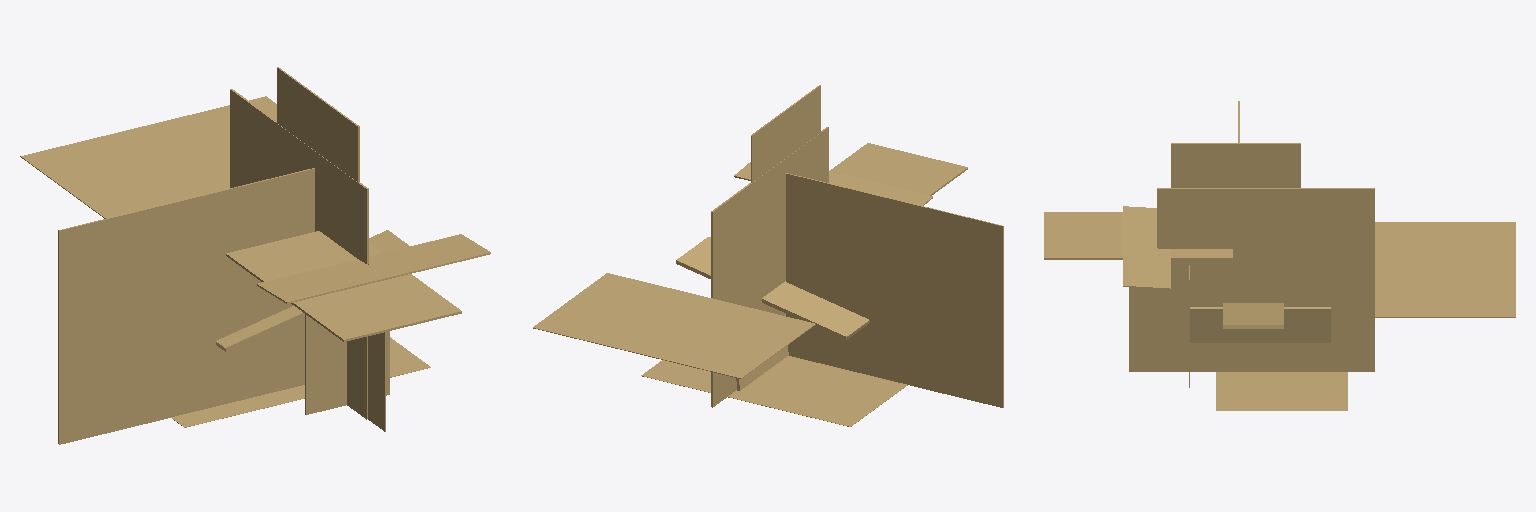
URDF robot description (evolved_design):
<?xml version="1.0" ?>
<robot name="evolved_design">
  <link name="base_link">
    <inertial>
      <mass value="0.001"/>
      <origin xyz="0 0 0" rpy="0 0 0"/>
      <inertia ixx="0.000001" ixy="0" ixz="0" iyy="0.000001" iyz="0" izz="0.000001"/>
    </inertial>
  </link>
  <link name="link_comp_0">
    <inertial>
      <mass value="0.213070"/>
      <origin xyz="0 0 0" rpy="0 0 0"/>
      <inertia ixx="0.003220040" ixy="0" ixz="0" iyy="0.009612903" iyz="0" izz="0.012832908"/>
    </inertial>
    <visual>
      <origin xyz="0 0 0" rpy="0 0 0"/>
      <geometry>
        <box size="0.735793 0.425852 0.001000"/>
      </geometry>
      <material name="link_comp_0_material">
        <color rgba="0.8 0.7 0.5 1"/>
      </material>
    </visual>
    <collision>
      <origin xyz="0 0 0" rpy="0 0 0"/>
      <geometry>
        <box size="0.735793 0.425852 0.001000"/>
      </geometry>
    </collision>
  </link>
  <joint name="base_link_to_link_comp_0" type="fixed">
    <parent link="base_link"/>
    <child link="link_comp_0"/>
    <origin xyz="0.367897 0.212926 0.000381" rpy="0.000000 0.000000 0.000000"/>
  </joint>
  <link name="link_comp_1">
    <inertial>
      <mass value="0.689062"/>
      <origin xyz="0 0 0" rpy="0 0 0"/>
      <inertia ixx="0.015147358" ixy="0" ixz="0" iyy="0.003102025" iyz="0" izz="0.012055752"/>
    </inertial>
    <visual>
      <origin xyz="0 0 0" rpy="0 0 0"/>
      <geometry>
        <box size="0.009525 0.458105 0.232231"/>
      </geometry>
      <material name="link_comp_1_material">
        <color rgba="0.8 0.7 0.5 1"/>
      </material>
    </visual>
    <collision>
      <origin xyz="0 0 0" rpy="0 0 0"/>
      <geometry>
        <box size="0.009525 0.458105 0.232231"/>
      </geometry>
    </collision>
  </link>
  <joint name="base_link_to_link_comp_1" type="fixed">
    <parent link="base_link"/>
    <child link="link_comp_1"/>
    <origin xyz="0.435406 0.143126 0.117377" rpy="0.000000 0.104094 0.000000"/>
  </joint>
  <link name="link_comp_2">
    <inertial>
      <mass value="0.788748"/>
      <origin xyz="0 0 0" rpy="0 0 0"/>
      <inertia ixx="0.033801547" ixy="0" ixz="0" iyy="0.022192854" iyz="0" izz="0.011611658"/>
    </inertial>
    <visual>
      <origin xyz="0 0 0" rpy="0 0 0"/>
      <geometry>
        <box size="0.004750 0.420282 0.581050"/>
      </geometry>
      <material name="link_comp_2_material">
        <color rgba="0.8 0.7 0.5 1"/>
      </material>
    </visual>
    <collision>
      <origin xyz="0 0 0" rpy="0 0 0"/>
      <geometry>
        <box size="0.004750 0.420282 0.581050"/>
      </geometry>
    </collision>
  </link>
  <joint name="base_link_to_link_comp_2" type="fixed">
    <parent link="base_link"/>
    <child link="link_comp_2"/>
    <origin xyz="0.435892 0.063868 0.524517" rpy="0.000000 0.000000 0.000000"/>
  </joint>
  <link name="link_comp_3">
    <inertial>
      <mass value="0.307464"/>
      <origin xyz="0 0 0" rpy="0 0 0"/>
      <inertia ixx="0.000625379" ixy="0" ixz="0" iyy="0.009522012" iyz="0" izz="0.010146235"/>
    </inertial>
    <visual>
      <origin xyz="0 0 0" rpy="0 0 0"/>
      <geometry>
        <box size="0.609600 0.156158 0.004750"/>
      </geometry>
      <material name="link_comp_3_material">
        <color rgba="0.8 0.7 0.5 1"/>
      </material>
    </visual>
    <collision>
      <origin xyz="0 0 0" rpy="0 0 0"/>
      <geometry>
        <box size="0.609600 0.156158 0.004750"/>
      </geometry>
    </collision>
  </link>
  <joint name="base_link_to_link_comp_3" type="fixed">
    <parent link="base_link"/>
    <child link="link_comp_3"/>
    <origin xyz="0.434955 -0.224852 0.441956" rpy="-0.065774 0.000000 0.000000"/>
  </joint>
  <link name="link_comp_4">
    <inertial>
      <mass value="0.207379"/>
      <origin xyz="0 0 0" rpy="0 0 0"/>
      <inertia ixx="0.002554878" ixy="0" ixz="0" iyy="0.003633285" iyz="0" izz="0.001078755"/>
    </inertial>
    <visual>
      <origin xyz="0 0 0" rpy="0 0 0"/>
      <geometry>
        <box size="0.249824 0.003175 0.384484"/>
      </geometry>
      <material name="link_comp_4_material">
        <color rgba="0.8 0.7 0.5 1"/>
      </material>
    </visual>
    <collision>
      <origin xyz="0 0 0" rpy="0 0 0"/>
      <geometry>
        <box size="0.249824 0.003175 0.384484"/>
      </geometry>
    </collision>
  </link>
  <joint name="base_link_to_link_comp_4" type="fixed">
    <parent link="base_link"/>
    <child link="link_comp_4"/>
    <origin xyz="0.435334 -0.088014 0.192242" rpy="0.000000 0.000000 0.000000"/>
  </joint>
  <link name="link_comp_5">
    <inertial>
      <mass value="1.995208"/>
      <origin xyz="0 0 0" rpy="0 0 0"/>
      <inertia ixx="0.154036215" ixy="0" ixz="0" iyy="0.071598802" iyz="0" izz="0.082450822"/>
    </inertial>
    <visual>
      <origin xyz="0 0 0" rpy="0 0 0"/>
      <geometry>
        <box size="0.006350 0.704168 0.656189"/>
      </geometry>
      <material name="link_comp_5_material">
        <color rgba="0.8 0.7 0.5 1"/>
      </material>
    </visual>
    <collision>
      <origin xyz="0 0 0" rpy="0 0 0"/>
      <geometry>
        <box size="0.006350 0.704168 0.656189"/>
      </geometry>
    </collision>
  </link>
  <joint name="base_link_to_link_comp_5" type="fixed">
    <parent link="base_link"/>
    <child link="link_comp_5"/>
    <origin xyz="0.435586 0.161506 0.328095" rpy="0.000000 0.000000 0.000000"/>
  </joint>
  <link name="link_comp_6">
    <inertial>
      <mass value="1.035095"/>
      <origin xyz="0 0 0" rpy="0 0 0"/>
      <inertia ixx="0.003348512" ixy="0" ixz="0" iyy="0.032068390" iyz="0" izz="0.035389077"/>
    </inertial>
    <visual>
      <origin xyz="0 0 0" rpy="0 0 0"/>
      <geometry>
        <box size="0.609600 0.196618 0.012700"/>
      </geometry>
      <material name="link_comp_6_material">
        <color rgba="0.8 0.7 0.5 1"/>
      </material>
    </visual>
    <collision>
      <origin xyz="0 0 0" rpy="0 0 0"/>
      <geometry>
        <box size="0.609600 0.196618 0.012700"/>
      </geometry>
    </collision>
  </link>
  <joint name="base_link_to_link_comp_6" type="fixed">
    <parent link="base_link"/>
    <child link="link_comp_6"/>
    <origin xyz="0.433792 0.119749 0.240343" rpy="0.000000 -0.195291 0.000000"/>
  </joint>
  <link name="link_comp_7">
    <inertial>
      <mass value="0.926809"/>
      <origin xyz="0 0 0" rpy="0 0 0"/>
      <inertia ixx="0.028704248" ixy="0" ixz="0" iyy="0.009578024" iyz="0" izz="0.038276043"/>
    </inertial>
    <visual>
      <origin xyz="0 0 0" rpy="0 0 0"/>
      <geometry>
        <box size="0.352097 0.609600 0.006350"/>
      </geometry>
      <material name="link_comp_7_material">
        <color rgba="0.8 0.7 0.5 1"/>
      </material>
    </visual>
    <collision>
      <origin xyz="0 0 0" rpy="0 0 0"/>
      <geometry>
        <box size="0.352097 0.609600 0.006350"/>
      </geometry>
    </collision>
  </link>
  <joint name="base_link_to_link_comp_7" type="fixed">
    <parent link="base_link"/>
    <child link="link_comp_7"/>
    <origin xyz="0.330147 -0.251187 0.435906" rpy="0.000000 0.000000 0.000000"/>
  </joint>
  <link name="link_comp_8">
    <inertial>
      <mass value="0.318903"/>
      <origin xyz="0 0 0" rpy="0 0 0"/>
      <inertia ixx="0.018038372" ixy="0" ixz="0" iyy="0.005215593" iyz="0" izz="0.012822903"/>
    </inertial>
    <visual>
      <origin xyz="0 0 0" rpy="0 0 0"/>
      <geometry>
        <box size="0.001524 0.694630 0.443007"/>
      </geometry>
      <material name="link_comp_8_material">
        <color rgba="0.8 0.7 0.5 1"/>
      </material>
    </visual>
    <collision>
      <origin xyz="0 0 0" rpy="0 0 0"/>
      <geometry>
        <box size="0.001524 0.694630 0.443007"/>
      </geometry>
    </collision>
  </link>
  <joint name="base_link_to_link_comp_8" type="fixed">
    <parent link="base_link"/>
    <child link="link_comp_8"/>
    <origin xyz="0.436478 0.065222 0.221504" rpy="0.000000 0.000000 0.000000"/>
  </joint>
  <link name="link_comp_9">
    <inertial>
      <mass value="0.517406"/>
      <origin xyz="0 0 0" rpy="0 0 0"/>
      <inertia ixx="0.008905404" ixy="0" ixz="0" iyy="0.023128877" iyz="0" izz="0.032033831"/>
    </inertial>
    <visual>
      <origin xyz="0 0 0" rpy="0 0 0"/>
      <geometry>
        <box size="0.732403 0.454461 0.002286"/>
      </geometry>
      <material name="link_comp_9_material">
        <color rgba="0.8 0.7 0.5 1"/>
      </material>
    </visual>
    <collision>
      <origin xyz="0 0 0" rpy="0 0 0"/>
      <geometry>
        <box size="0.732403 0.454461 0.002286"/>
      </geometry>
    </collision>
  </link>
  <joint name="base_link_to_link_comp_9" type="fixed">
    <parent link="base_link"/>
    <child link="link_comp_9"/>
    <origin xyz="0.436421 0.741321 0.365047" rpy="0.000000 0.000000 0.000000"/>
  </joint>
  <link name="link_comp_10">
    <inertial>
      <mass value="1.500321"/>
      <origin xyz="0 0 0" rpy="0 0 0"/>
      <inertia ixx="0.046464279" ixy="0" ixz="0" iyy="0.119057487" iyz="0" izz="0.072598849"/>
    </inertial>
    <visual>
      <origin xyz="0 0 0" rpy="0 0 0"/>
      <geometry>
        <box size="0.762000 0.004750 0.609600"/>
      </geometry>
      <material name="link_comp_10_material">
        <color rgba="0.8 0.7 0.5 1"/>
      </material>
    </visual>
    <collision>
      <origin xyz="0 0 0" rpy="0 0 0"/>
      <geometry>
        <box size="0.762000 0.004750 0.609600"/>
      </geometry>
    </collision>
  </link>
  <joint name="base_link_to_link_comp_10" type="fixed">
    <parent link="base_link"/>
    <child link="link_comp_10"/>
    <origin xyz="0.049143 0.073787 0.304800" rpy="0.000000 0.000000 0.000000"/>
  </joint>
</robot>

--- Render facts (derived) ---
3 views of the same robot in one strip: view 1: azimuth 30°, elevation 25°; view 2: azimuth 150°, elevation 25°; view 3: azimuth 270°, elevation 25° (orthographic).
Model evolved_design with 12 links and 11 joints (11 fixed), rooted at base_link, posed all joints at 0.
Links seen in each view (by area): view 1: link_comp_10, link_comp_9, link_comp_5, link_comp_7, link_comp_3, link_comp_2, link_comp_4, link_comp_0, link_comp_6, link_comp_8; view 2: link_comp_10, link_comp_9, link_comp_5, link_comp_0, link_comp_7, link_comp_6, link_comp_2, link_comp_3, link_comp_1; view 3: link_comp_5, link_comp_9, link_comp_2, link_comp_0, link_comp_7, link_comp_1, link_comp_3, link_comp_8, link_comp_6.
Link boxes in pixels (<box>): link_comp_10: <box>58,168,314,444</box>; link_comp_9: <box>20,96,276,218</box>; link_comp_5: <box>230,89,368,419</box>; link_comp_7: <box>226,231,461,341</box>; link_comp_3: <box>257,234,490,303</box>; link_comp_2: <box>277,67,359,182</box>; link_comp_4: <box>305,314,389,414</box>; link_comp_0: <box>171,337,430,427</box>; link_comp_6: <box>216,230,409,351</box>; link_comp_8: <box>368,264,385,431</box>; link_comp_10: <box>786,173,1003,407</box>; link_comp_9: <box>533,273,815,378</box>; link_comp_5: <box>711,127,828,407</box>; link_comp_0: <box>641,356,907,426</box>; link_comp_7: <box>830,143,967,195</box>; link_comp_6: <box>676,237,869,339</box>; link_comp_2: <box>751,85,820,182</box>; link_comp_3: <box>734,162,932,205</box>; link_comp_1: <box>736,314,788,390</box>; link_comp_5: <box>1157,188,1374,371</box>; link_comp_9: <box>1375,222,1515,317</box>; link_comp_2: <box>1171,143,1300,187</box>; link_comp_0: <box>1216,372,1347,410</box>; link_comp_7: <box>1044,212,1232,259</box>; link_comp_1: <box>1190,307,1330,342</box>; link_comp_3: <box>1123,206,1170,289</box>; link_comp_8: <box>1129,287,1156,371</box>; link_comp_6: <box>1223,303,1283,328</box>.
Size in the robot's own frame: 1.13 by 1.52 by 0.8152 metres.
Geometry: primitives only (box / cylinder / sphere), no mesh files.